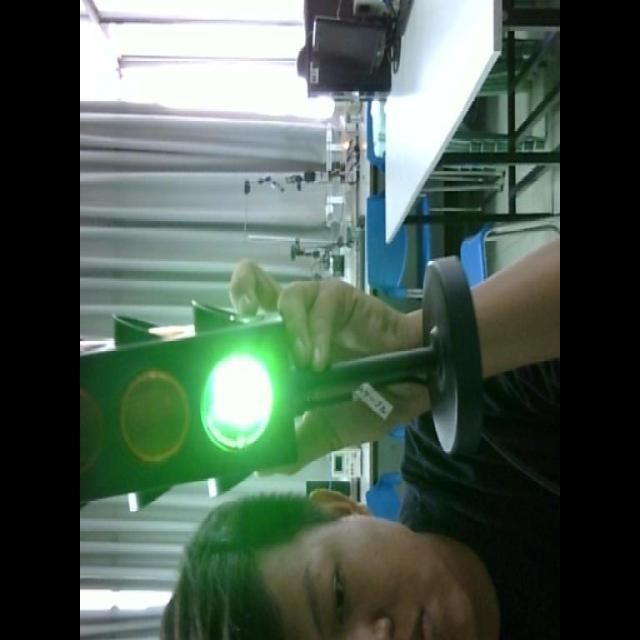green_light: (78, 299, 294, 502)
